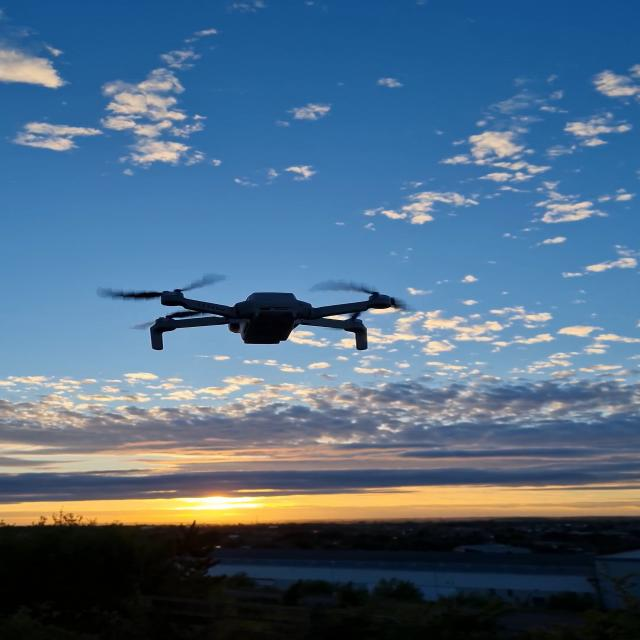Drone: (97, 254, 409, 372)
